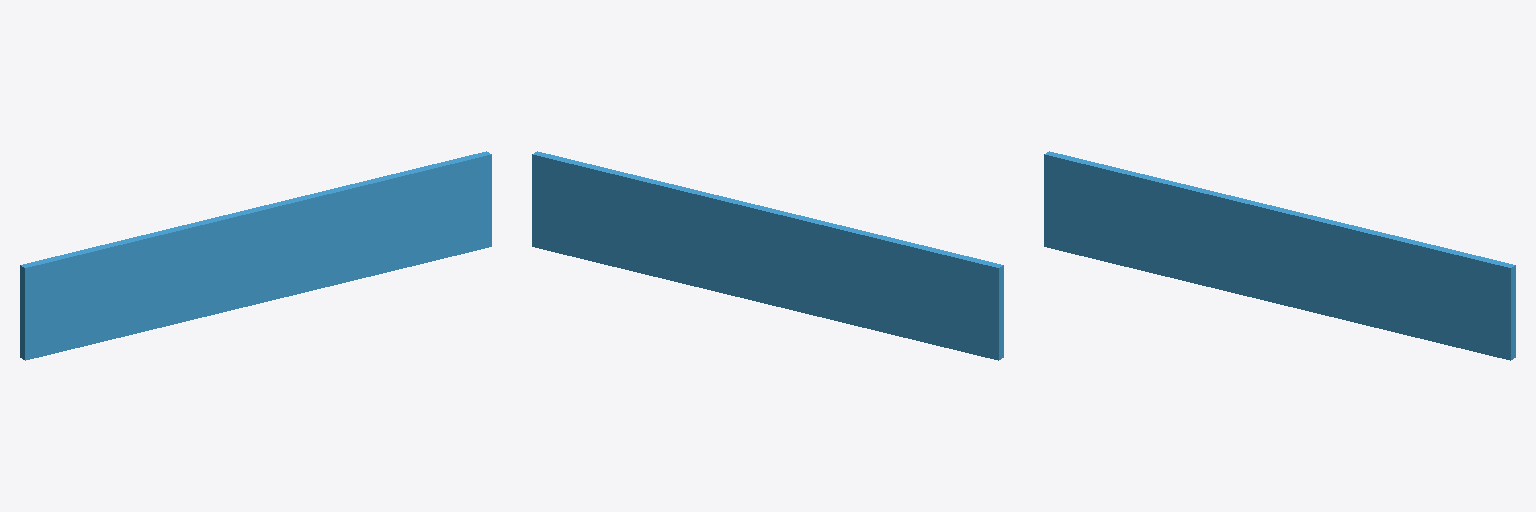
robot.urdf — hemis_68:
<?xml version="1.0" encoding="utf-8"?>    
    <robot name="hemis_68">
        <link name="hemis_68">    
            <fem>
                <origin rpy="0.0 0.0 0.0" xyz="0 0 0" />
                <density value="100" />
                <youngs value="8966"/>
                <poissons value="0.3" />
                <damping value="0.0" />
                <attachDistance value="0.04" />
                <tetmesh filename="[local-path]/sim_data/Custom/Custom_mesh/multi_hemis_10kPa/hemis_68.tet" />
                <scale value="0.5"/>
            </fem>
        </link>

        <link name="fix_frame">
            <visual>
                <origin xyz="0 -10.113677101740782 0.05683855087039089"/>              
                <geometry>
                    <box size="0.3 0.005 0.05683855087039089"/>
                </geometry>
            </visual>
            <collision>
                <origin xyz="0 -0.11367710174078179 0.05683855087039089"/>              
                <geometry>
                    <box size="0.3 0.005 0.05683855087039089"/>
                </geometry>
            </collision>
            <inertial>
                <mass value="500000"/>
                <inertia ixx="0.05" ixy="0.0" ixz="0.0" iyy="0.05" iyz="0.0" izz="0.05"/>
            </inertial>
        </link>
        
        <joint name = "attach" type = "fixed">
            <origin xyz = "0.0 0.0 0.0" rpy = "0 0 0"/>
            <parent link ="hemis_68"/>
            <child link = "fix_frame"/>
        </joint>  




    </robot>
    

--- What the picture shows (computed from the rendered views, not written in the file) ---
The picture shows the robot from 3 angles, left to right: view 1: azimuth 30°, elevation 25°; view 2: azimuth 150°, elevation 25°; view 3: azimuth 330°, elevation 25°; orthographic projection.
Model hemis_68 with 2 links and 1 joints (1 fixed), rooted at hemis_68, posed every joint at zero.
Visible links, largest first — view 1: fix_frame; view 2: fix_frame; view 3: fix_frame.
Boxes of the visible links, x1,y1,x2,y2 form: fix_frame: [20, 151, 491, 360]; fix_frame: [532, 151, 1003, 360]; fix_frame: [1044, 151, 1515, 360].
Size in the robot's own frame: 0.3 by 0.005 by 0.0568 metres.
Geometry: primitives only (box / cylinder / sphere), no mesh files.
